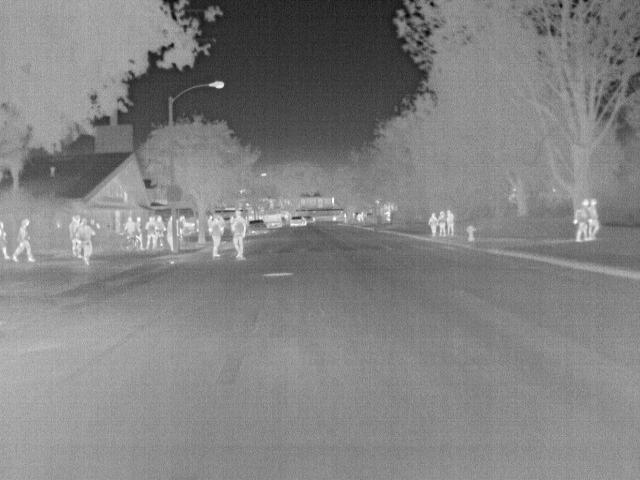car: (246, 218, 270, 234), (289, 214, 308, 227)
person: (10, 219, 34, 262), (228, 210, 246, 257), (206, 214, 225, 257), (574, 200, 592, 244), (80, 220, 97, 264), (67, 214, 81, 258), (142, 214, 159, 248), (590, 198, 602, 240), (164, 213, 176, 253), (154, 213, 167, 246), (426, 211, 439, 238), (443, 208, 456, 234), (123, 214, 138, 235), (436, 210, 448, 235)
